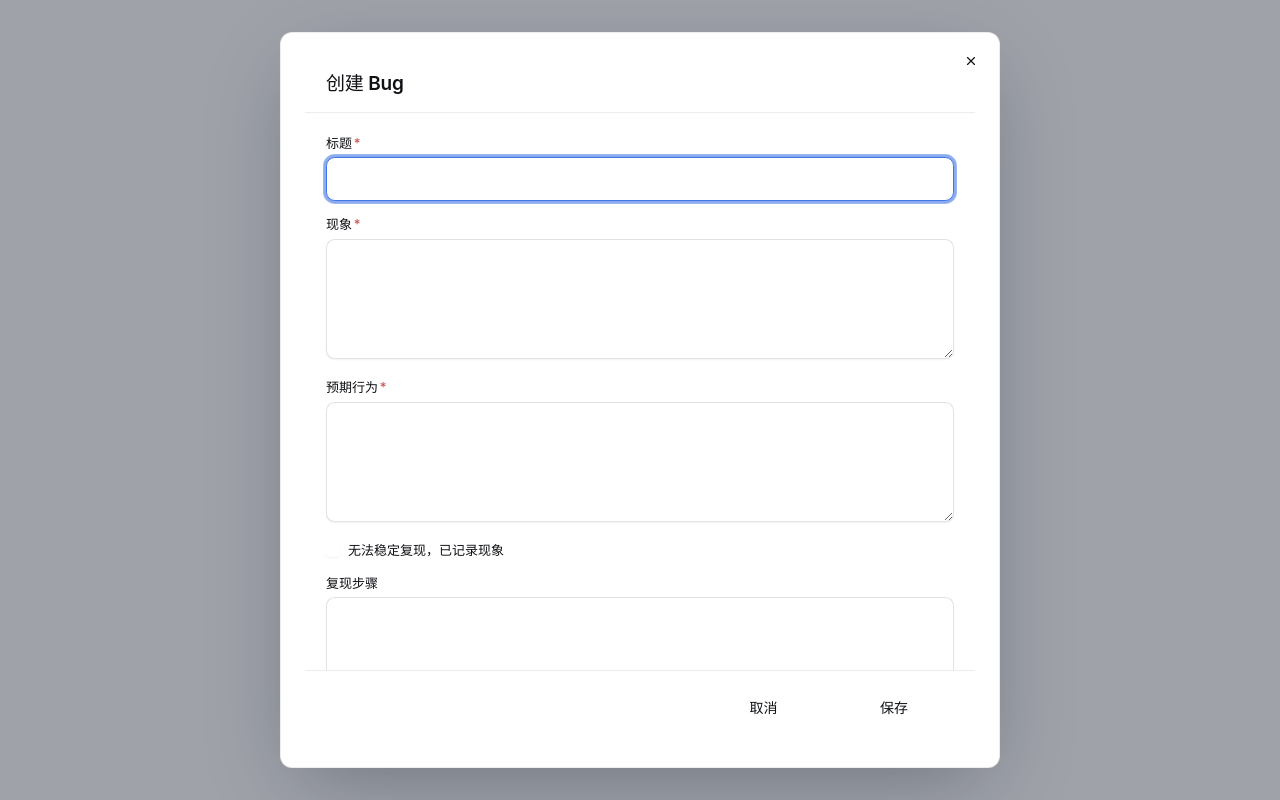
BugForm › 建单必填项缺失时本地校验阻止提交并聚焦首个错误字段
Click the button "保存": click(894, 707) [834,685,954,729]
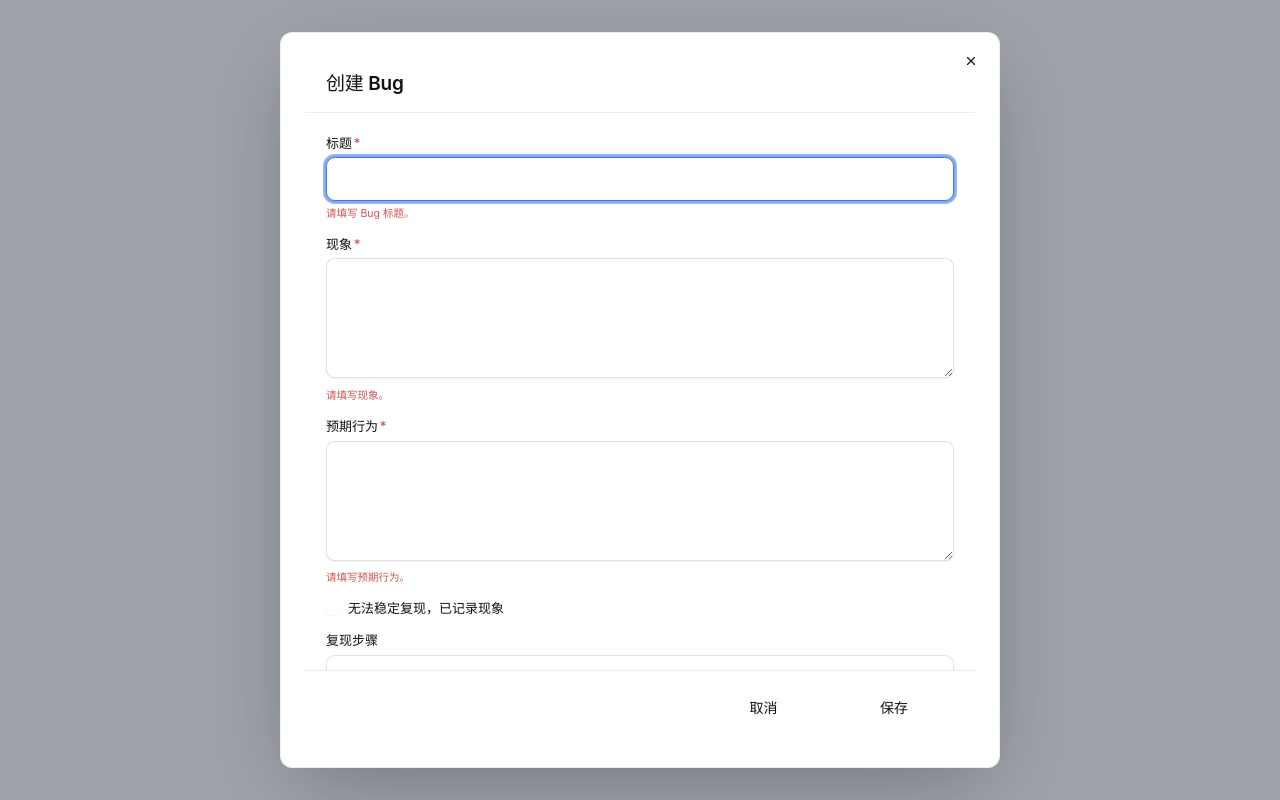
Now the message "请填写 Bug 标题。" is shown, box [326,207,414,220]
